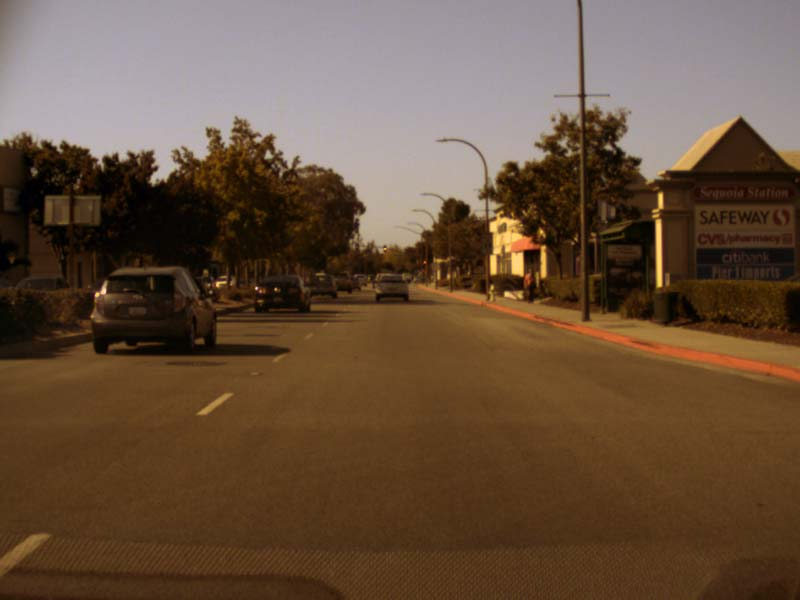Yellow: (354, 243, 358, 250), (383, 245, 386, 252), (422, 260, 427, 264)
